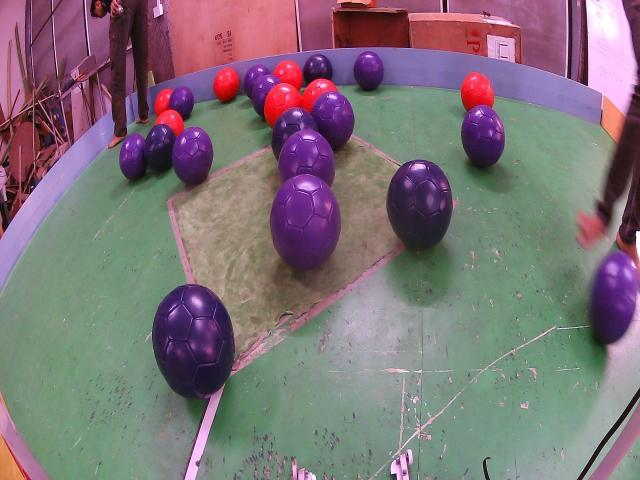jambhalya: (270, 173, 341, 270), (590, 252, 638, 343), (279, 131, 335, 185), (461, 105, 505, 167), (310, 92, 355, 150), (172, 127, 214, 185), (119, 133, 148, 180), (251, 75, 280, 118), (354, 52, 384, 90), (242, 65, 270, 98), (169, 87, 194, 120)
kaalyya: (152, 283, 235, 398), (386, 160, 454, 248), (273, 108, 320, 155), (144, 123, 176, 172), (304, 53, 332, 83)
